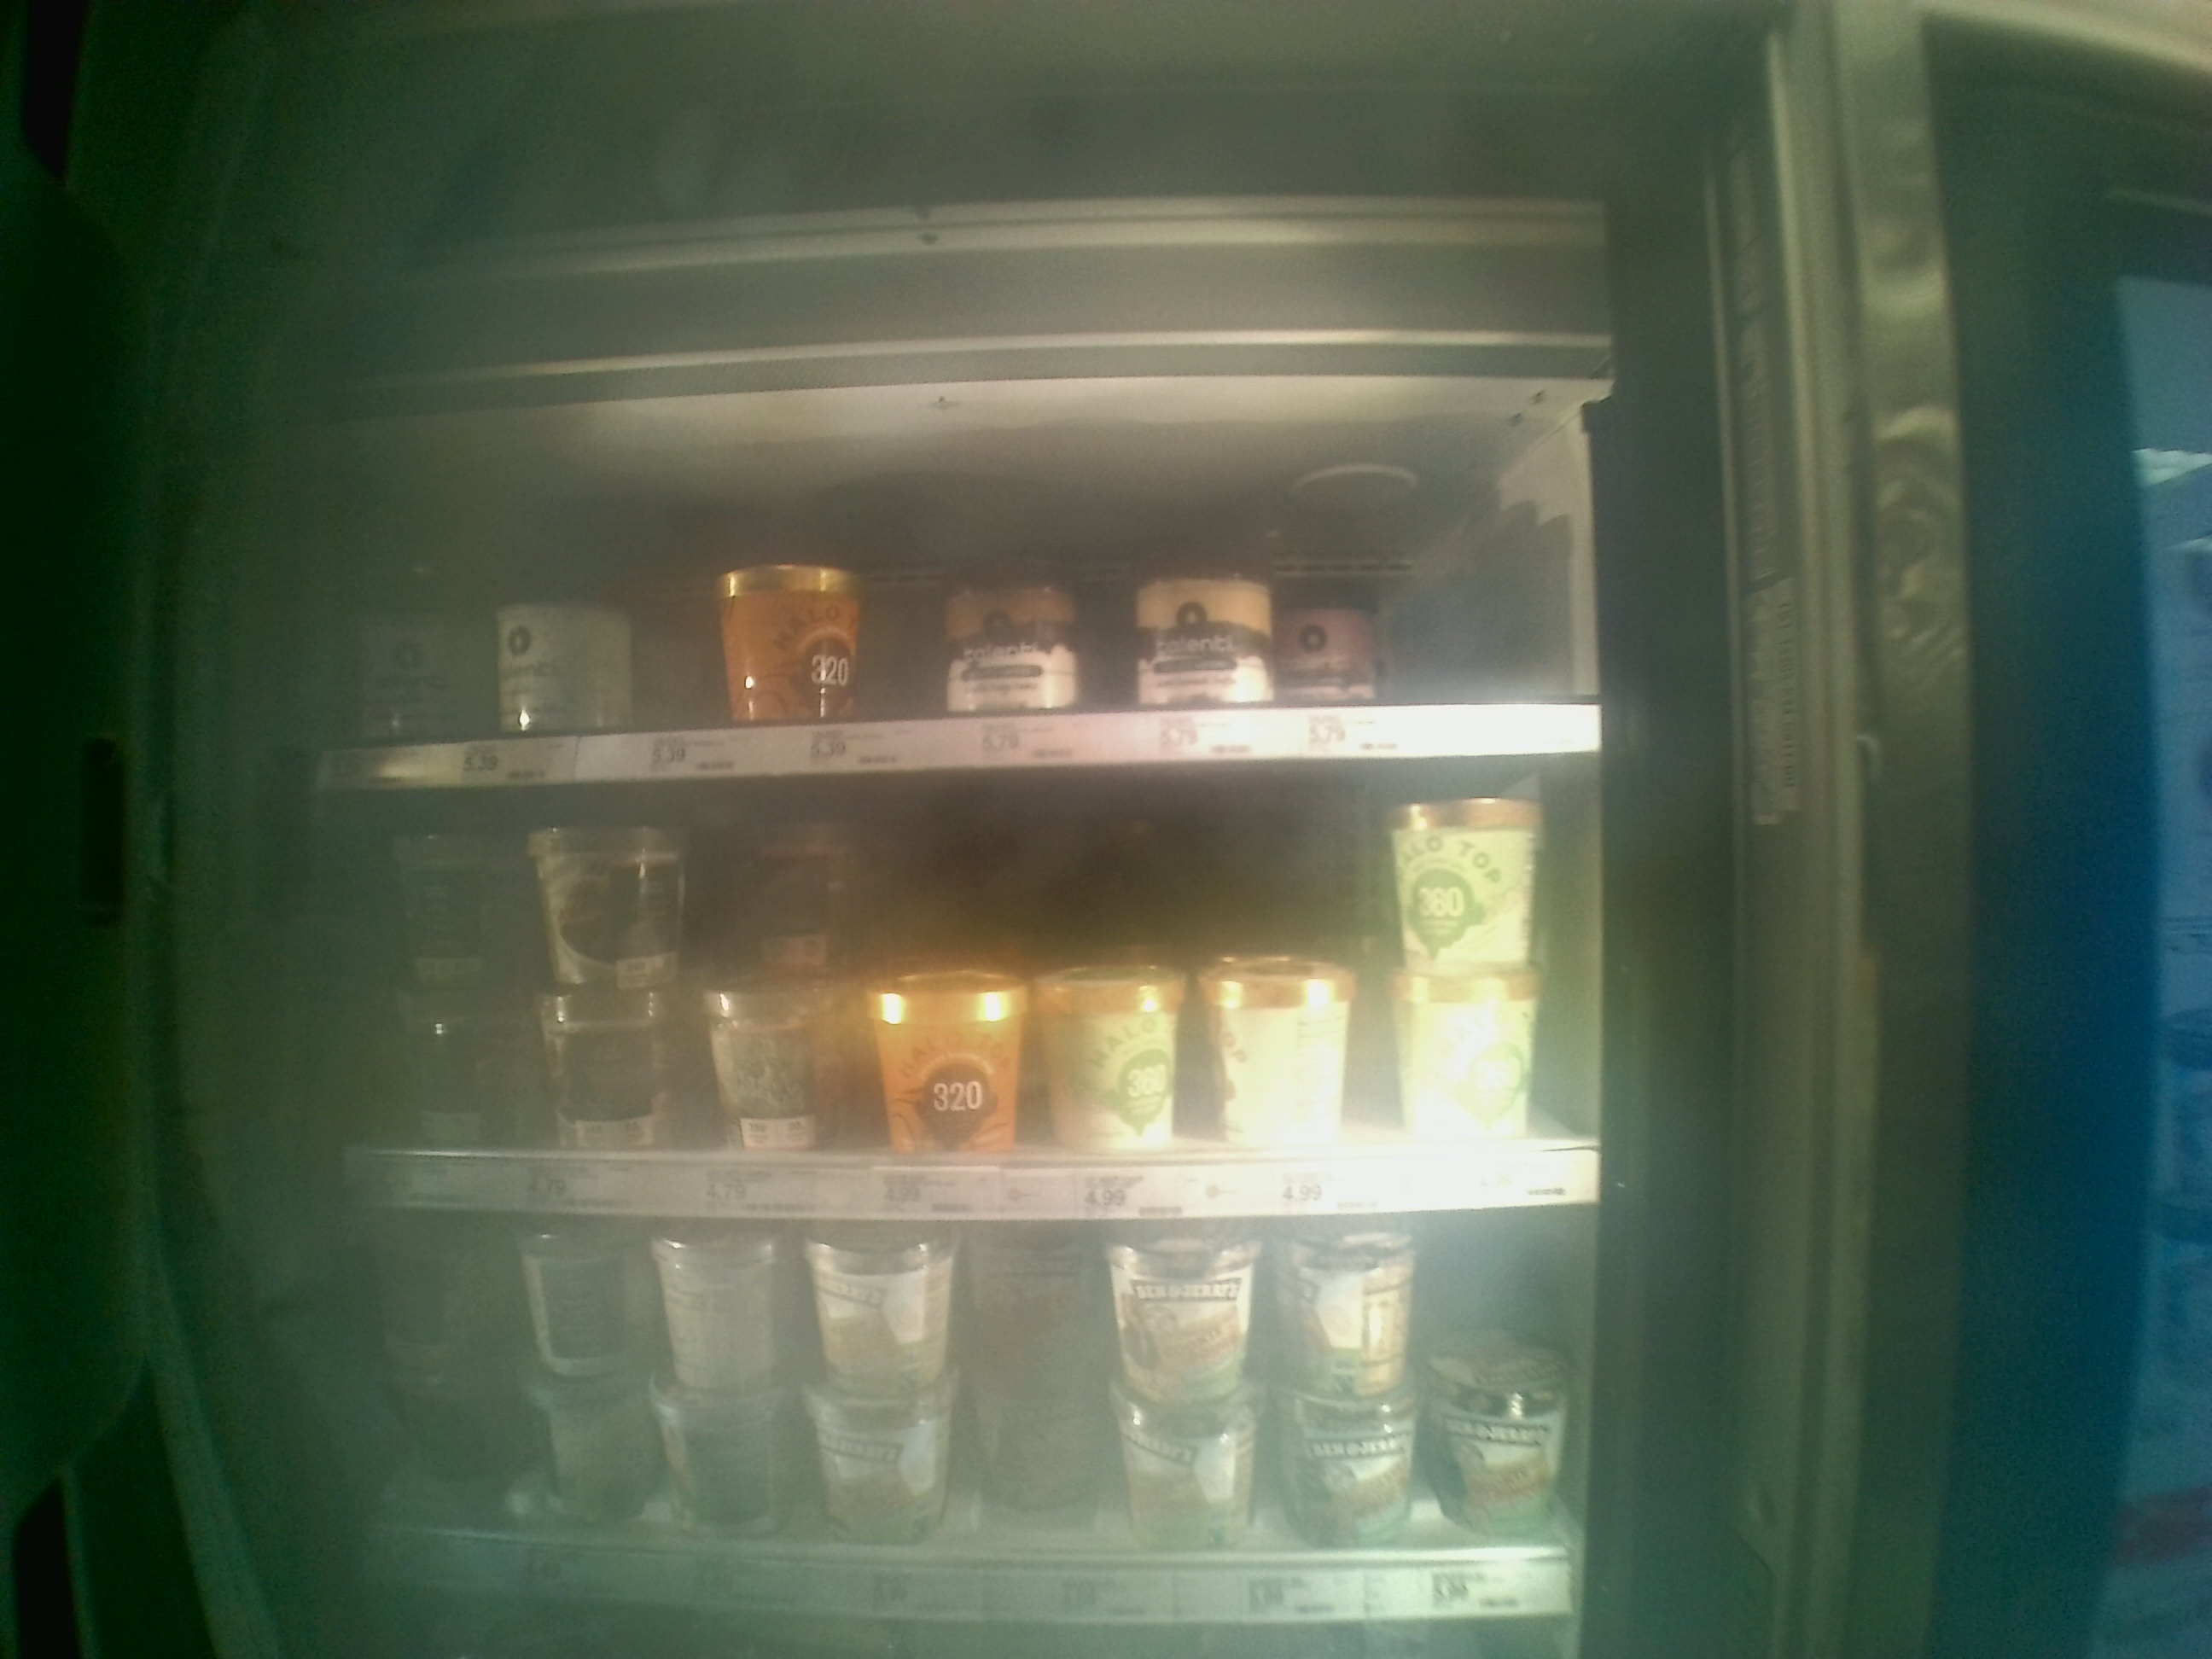ice-cream-shelf: (326, 779, 1609, 1215), (319, 1213, 1583, 1628), (329, 413, 1609, 769)
